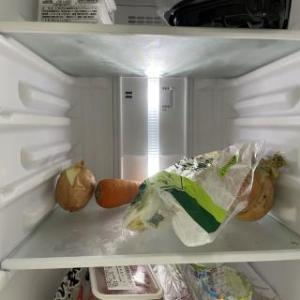carrot: (95, 177, 149, 209)
onion: (231, 156, 282, 222), (51, 158, 95, 212)
